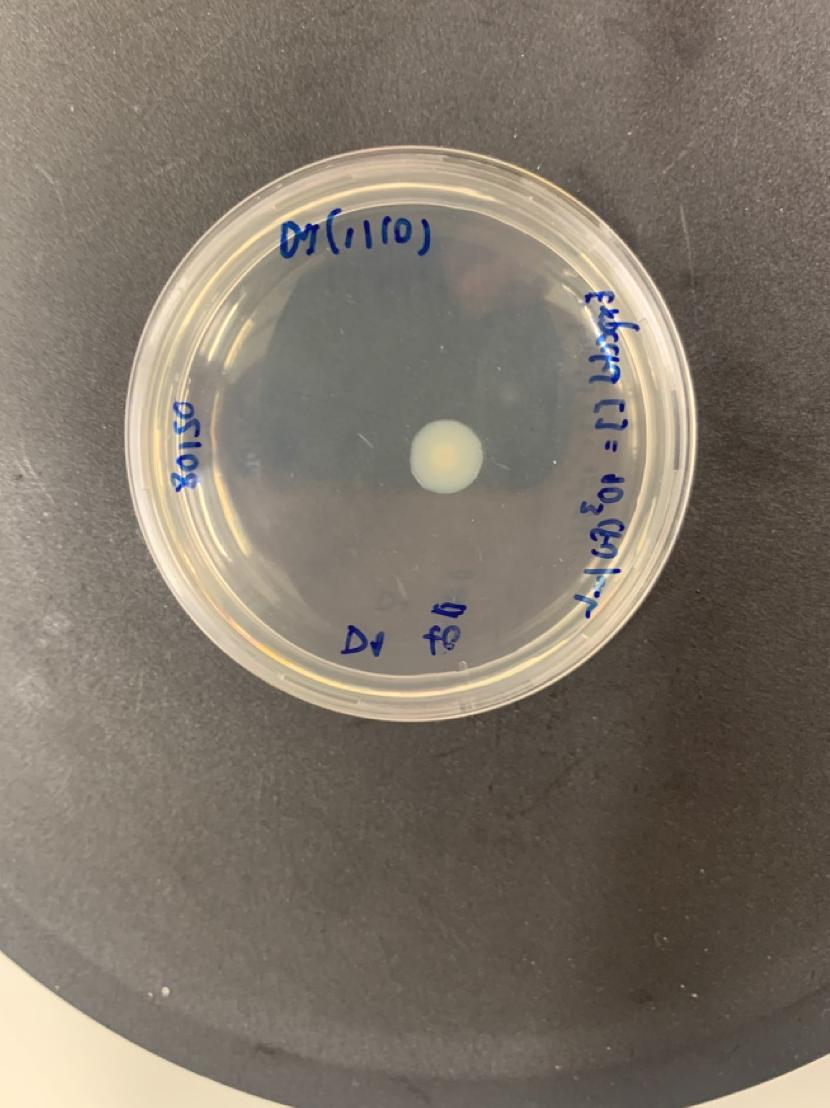colony: (405, 417, 488, 502)
